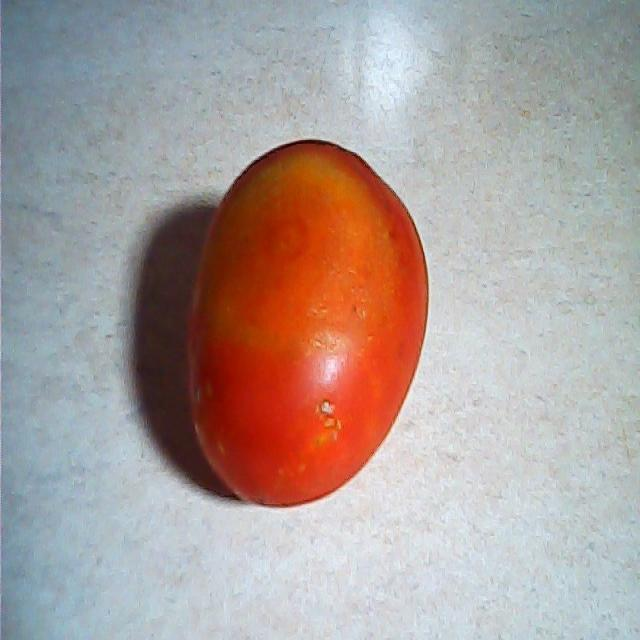maduro: (185, 140, 431, 507)
